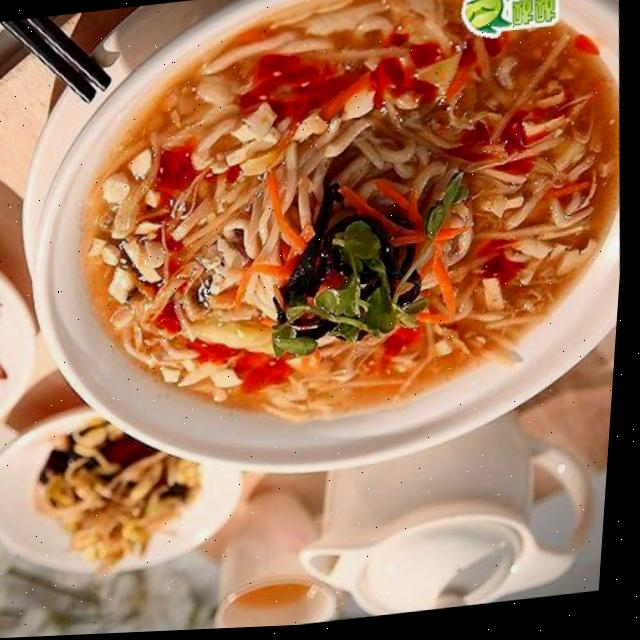面条主食: (23, 0, 625, 532)
